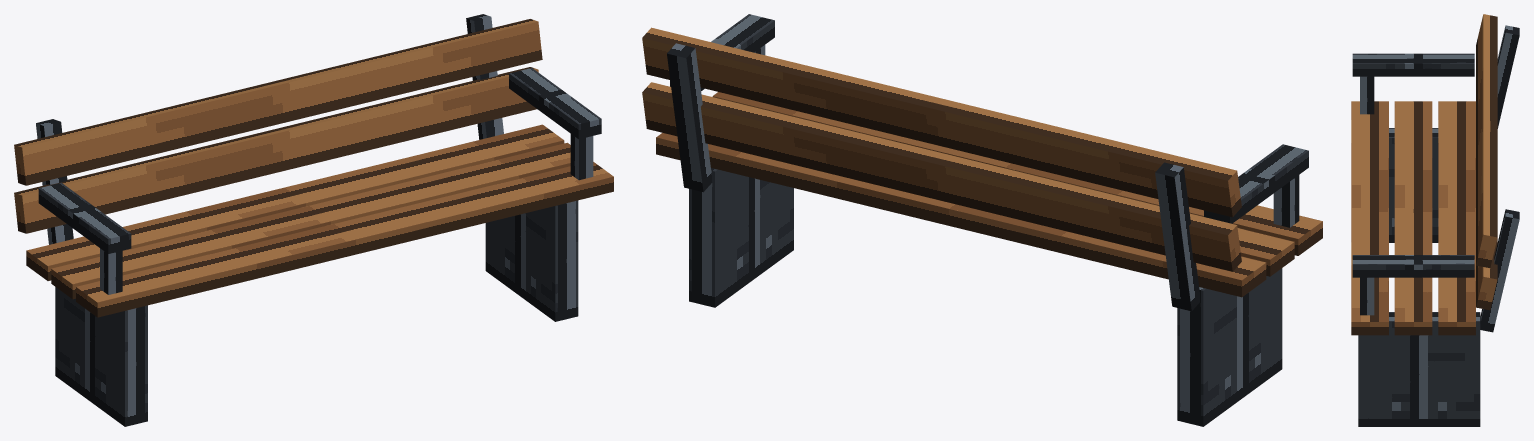
The model's file is bench.glb.
3 views of the same model, side by side, from view 1: azimuth 30°, elevation 25°; view 2: azimuth 150°, elevation 25°; view 3: azimuth 270°, elevation 25° (orthographic). The views are drawn at different scales.
Parts seen in each view (by area): view 1: bench; view 2: bench; view 3: bench.
Part boxes in pixels (x1=…): bench: x1=14, y1=14, x2=613, y2=426; bench: x1=642, y1=14, x2=1322, y2=426; bench: x1=1351, y1=14, x2=1519, y2=426.
Size of the model in its own units: 1.58 by 0.7 by 0.5111.
Materials: 2 (2 with a texture image).
